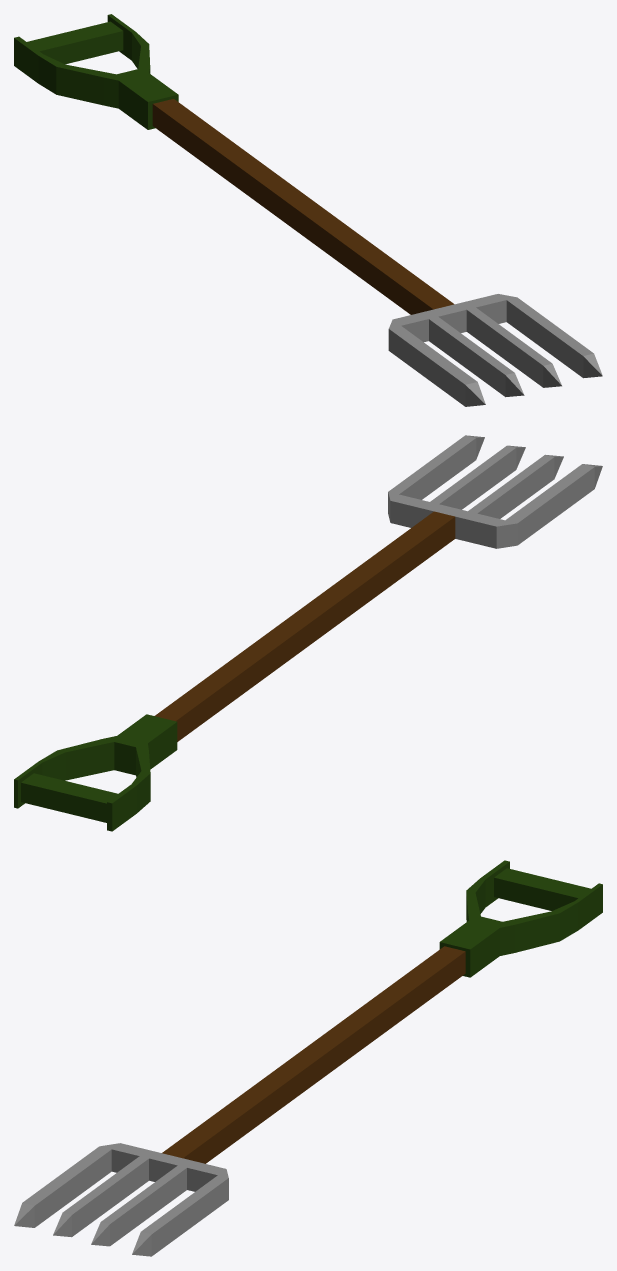
File: pitchfork.fbx
3 renders of one model, top to bottom at view 1: azimuth 30°, elevation 25°; view 2: azimuth 150°, elevation 25°; view 3: azimuth 330°, elevation 25°, orthographic.
Visible parts, largest first — view 1: Cube; view 2: Cube; view 3: Cube.
Part boxes in pixels (left/top/right/bottom): Cube: left=14, top=14, right=602, bottom=406; Cube: left=14, top=435, right=602, bottom=831; Cube: left=14, top=860, right=602, bottom=1256.
Bounding box in the file's own units: 170 × 35.43 × 1099.
